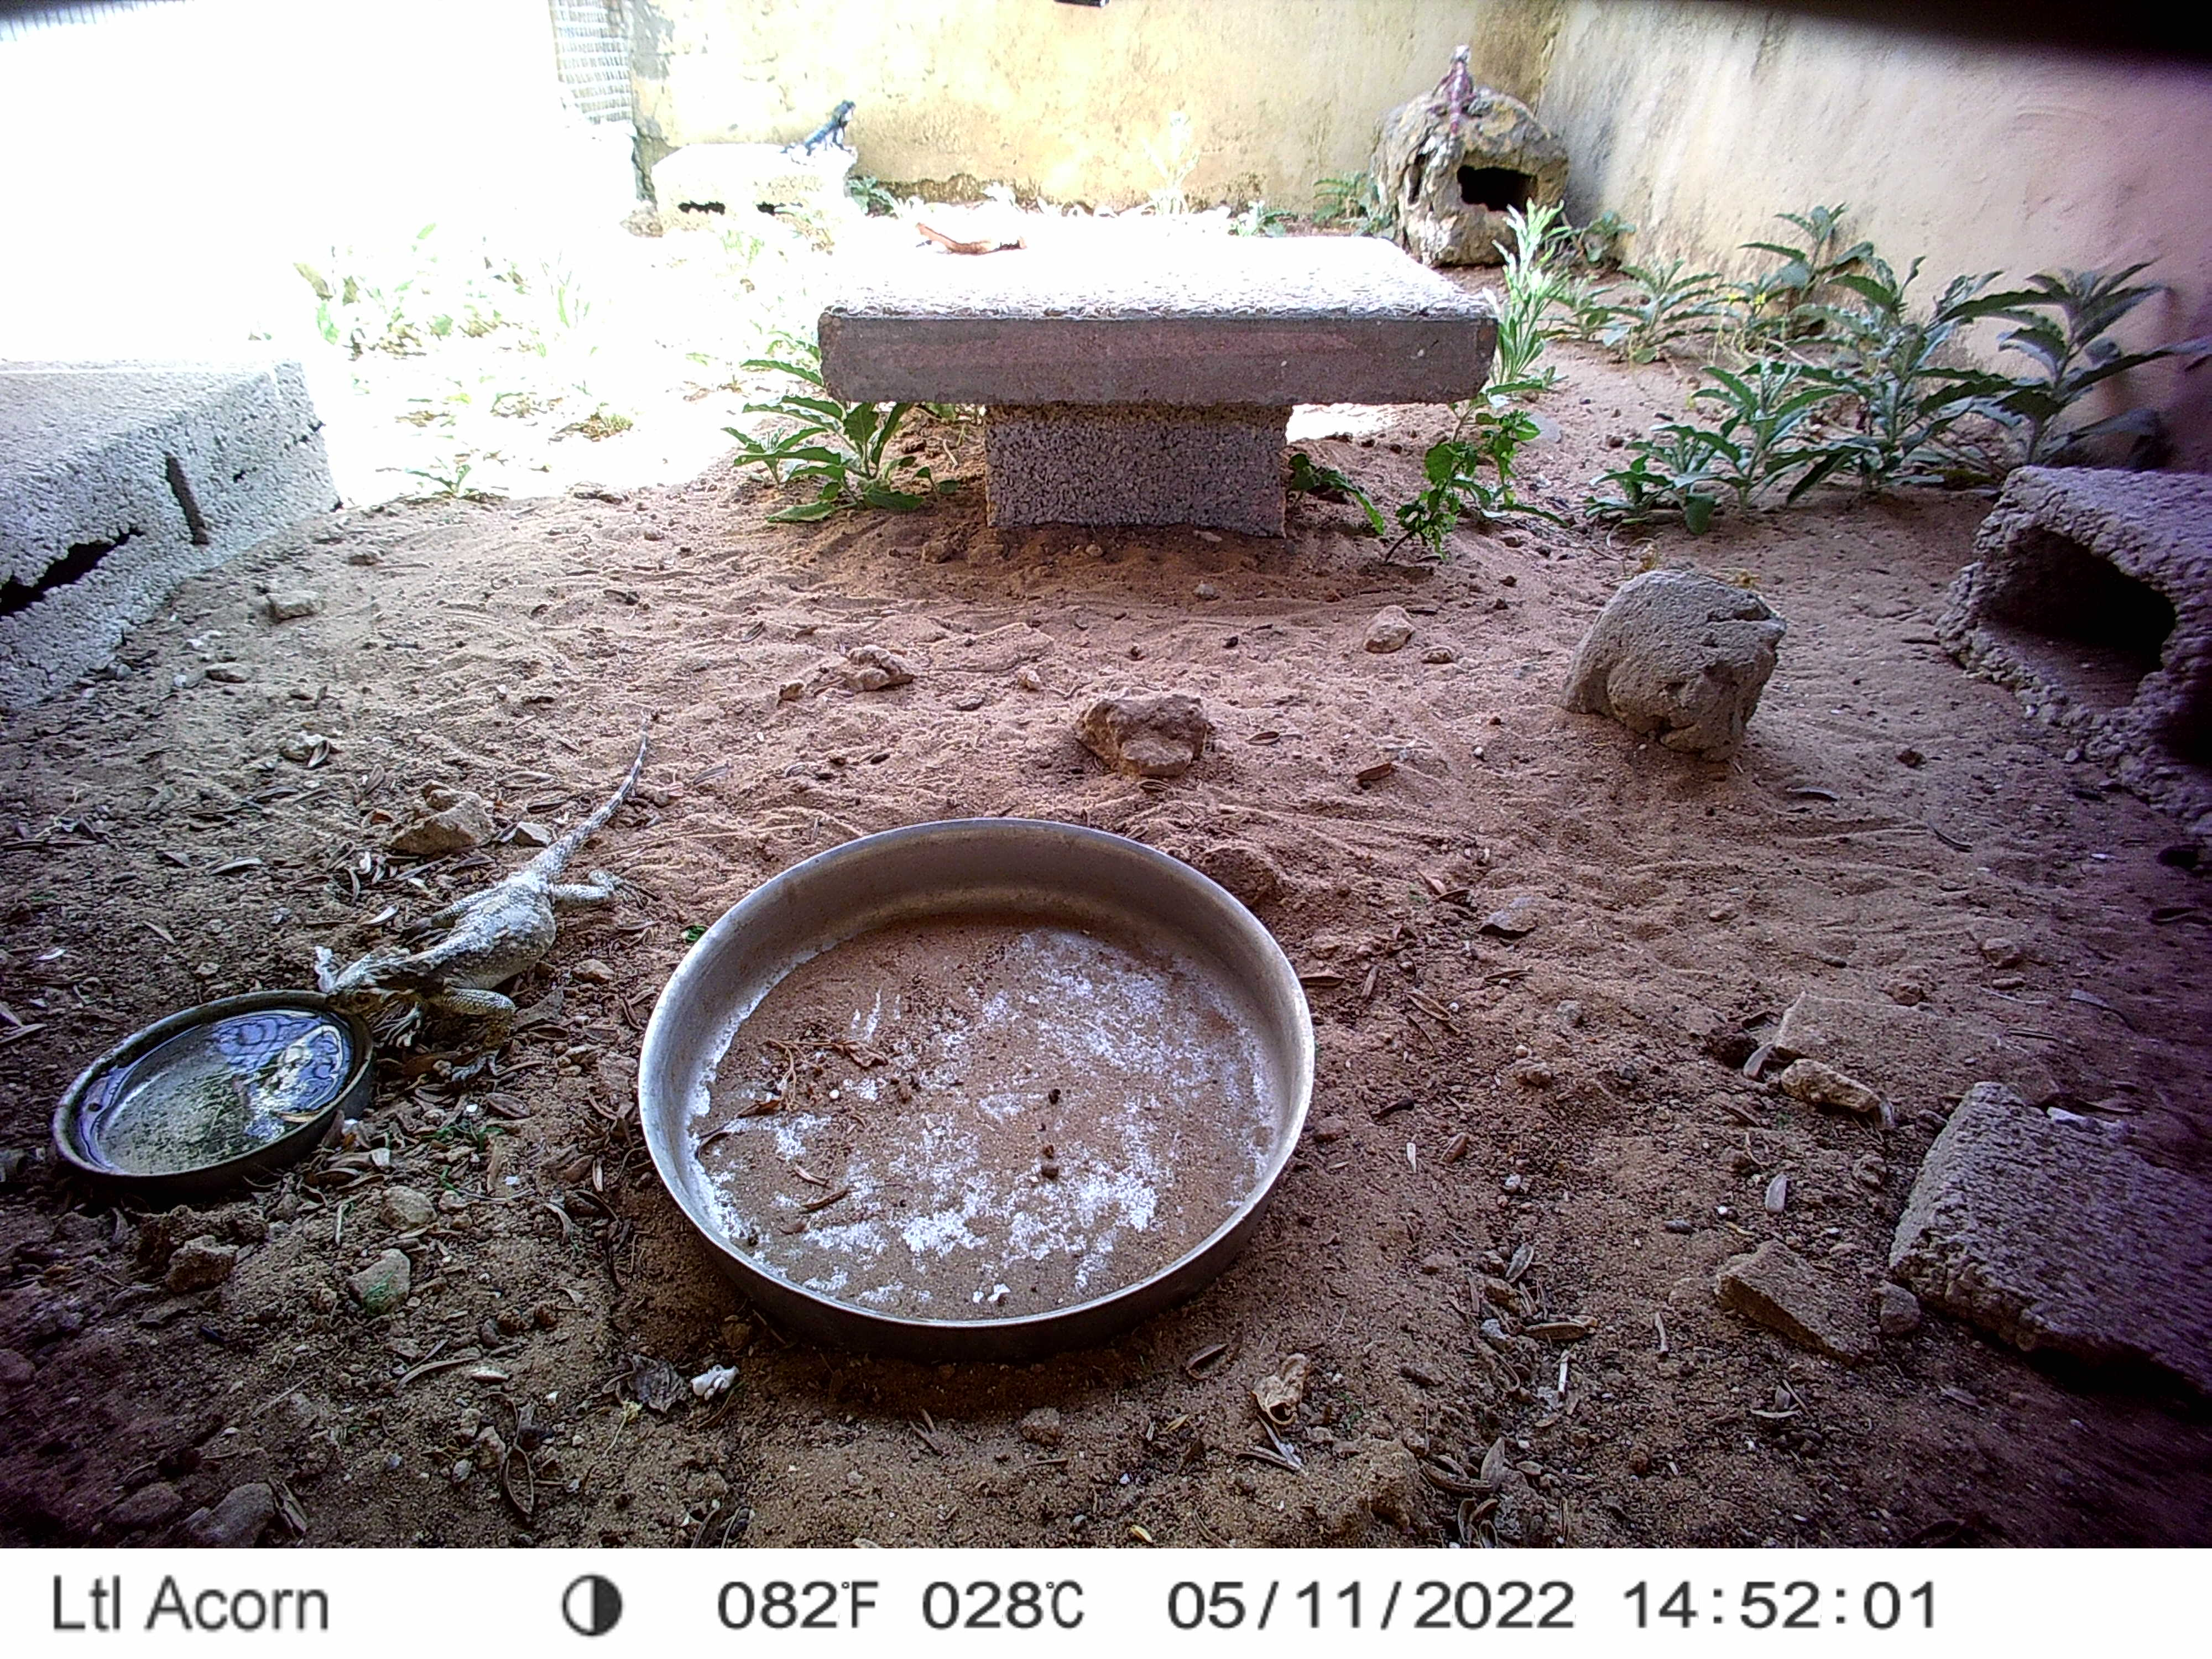lizard: (319, 723, 669, 1101), (1397, 40, 1500, 186), (766, 94, 867, 171)
